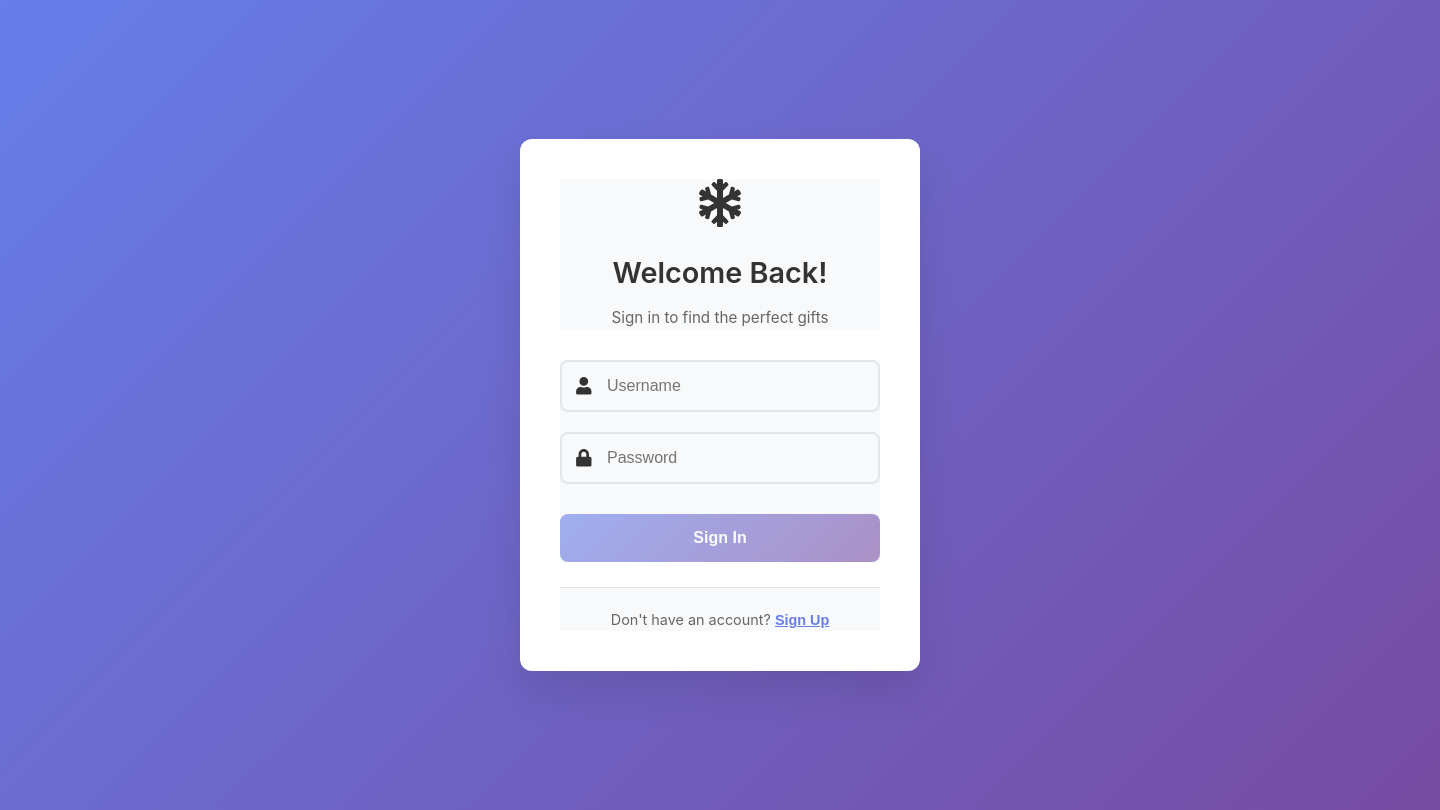
Test: Login Component › Form Submission › shows loading state during submission
The width and height of the screenshot is (1440, 810).
Type "testuser" into the field labelled "Username" at (720, 386), box x1=560 y1=360 x2=880 y2=412
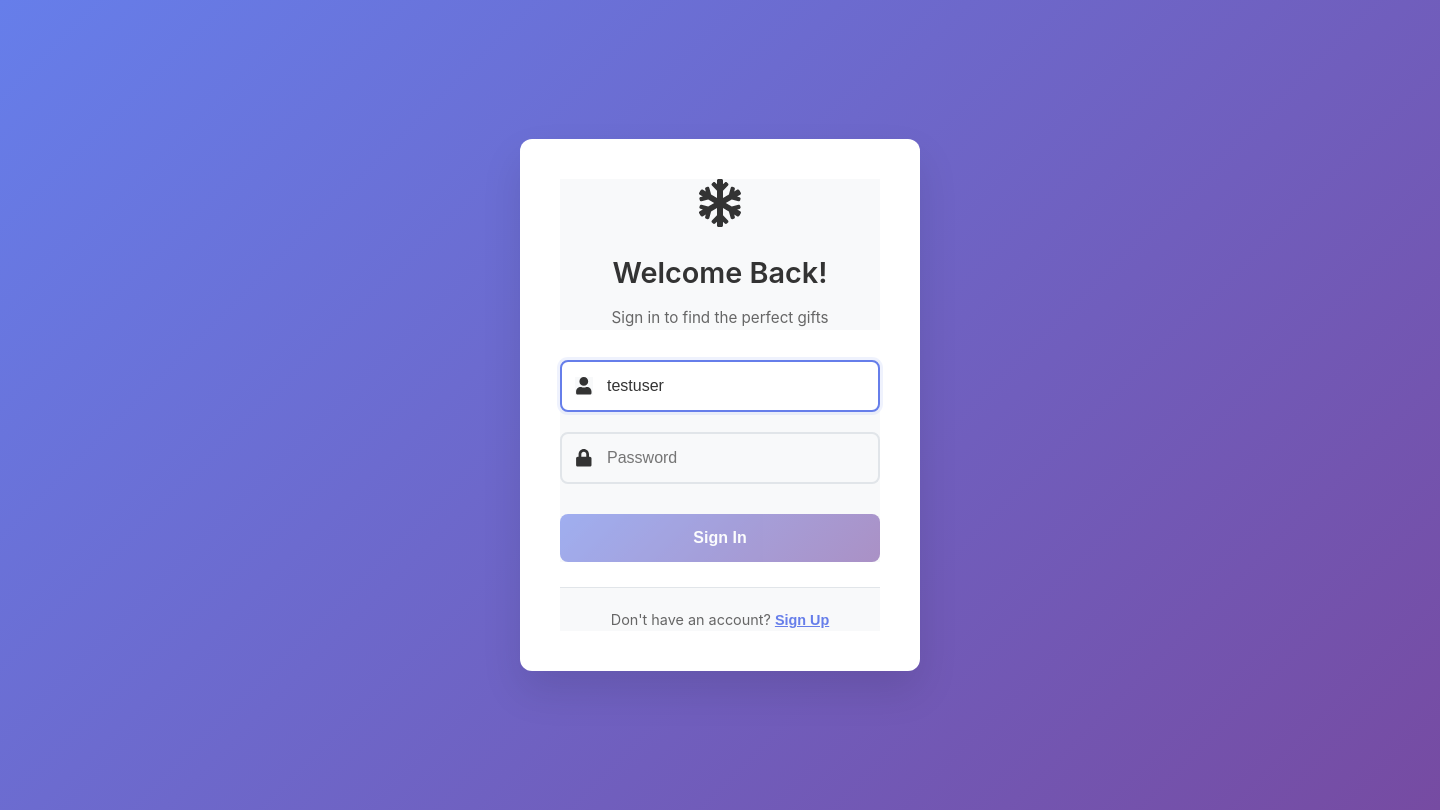
Type "password123" into the password field labelled "Password" at (720, 458), box x1=560 y1=432 x2=880 y2=484
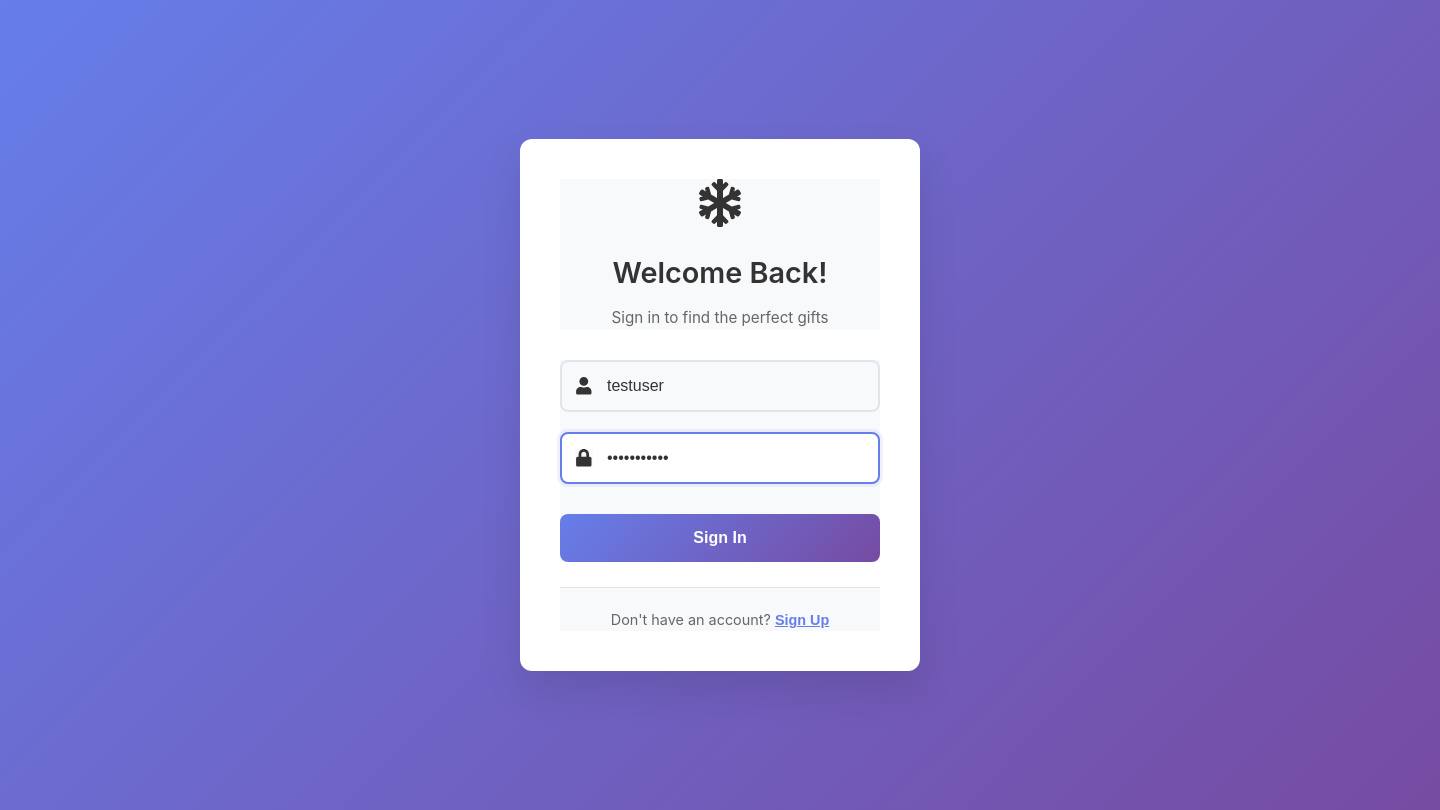
Click the button "Sign In" at (720, 538), box x1=560 y1=514 x2=880 y2=562
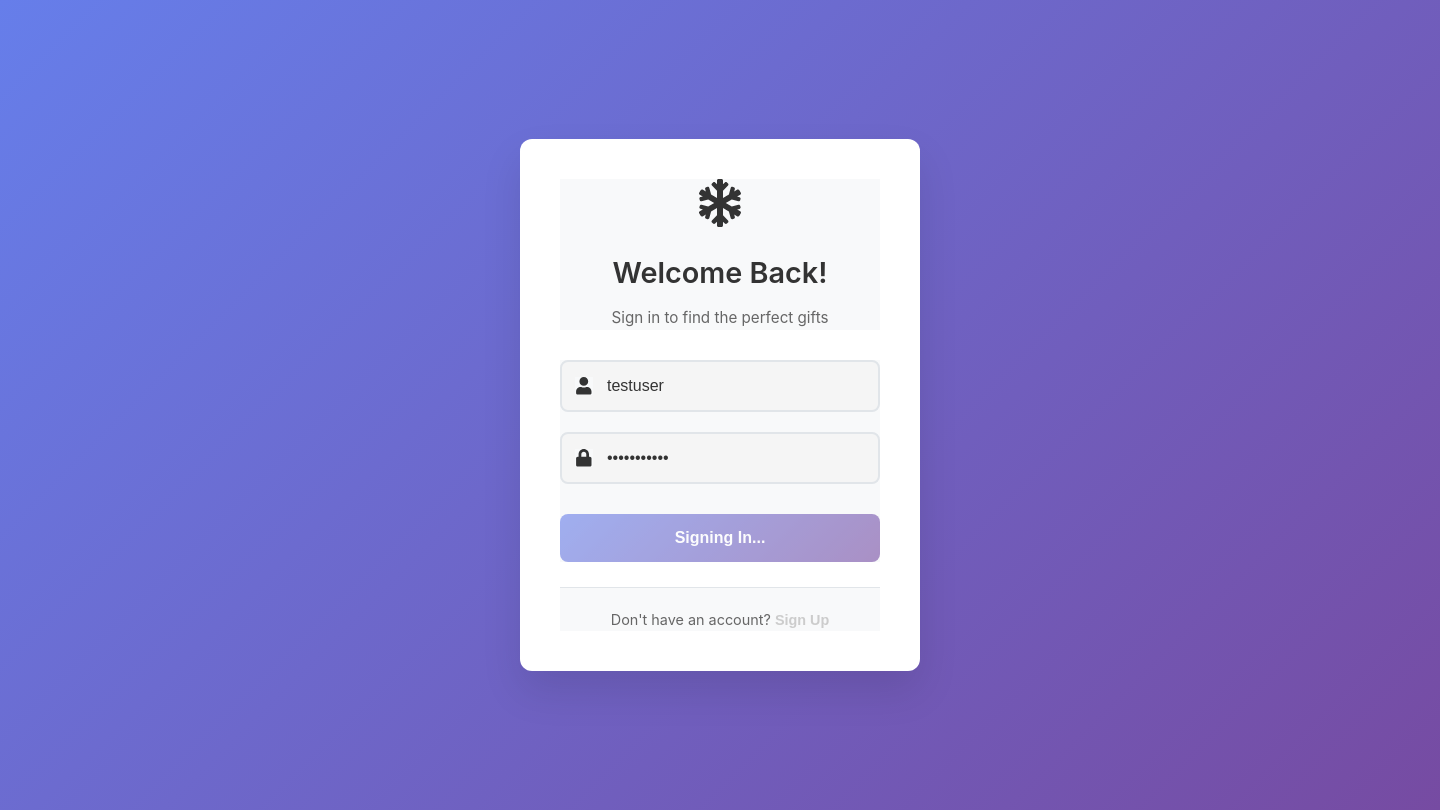
Expected: the field named "Username" is disabled, x1=560 y1=360 x2=880 y2=412
Expected: the button "Signing In..." is disabled, x1=560 y1=514 x2=880 y2=562
